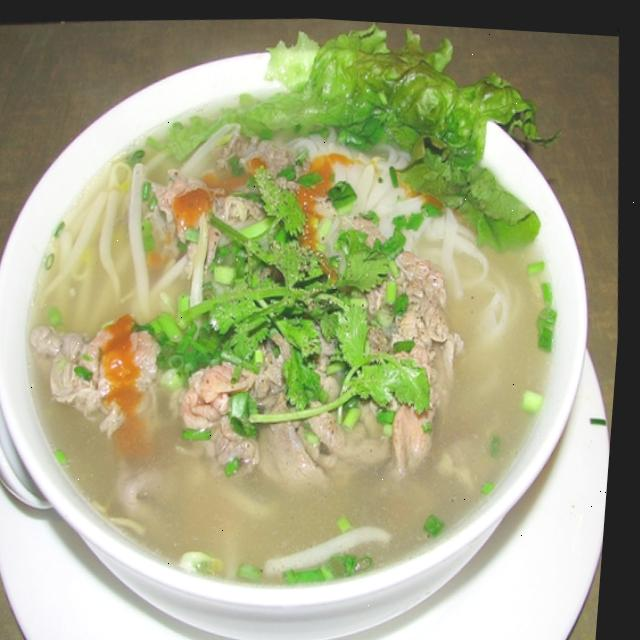面条主食: (0, 13, 616, 640)
